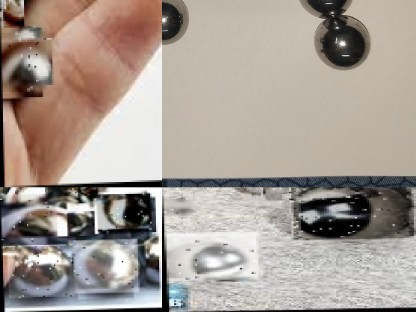ironball: (291, 187, 413, 240), (164, 232, 258, 280), (68, 240, 139, 295), (313, 14, 373, 75), (6, 244, 73, 298), (0, 194, 57, 246), (0, 31, 46, 91), (97, 194, 152, 237), (163, 0, 193, 45), (300, 0, 356, 15), (246, 187, 294, 203), (69, 187, 104, 206), (0, 0, 25, 25), (162, 198, 191, 216)
